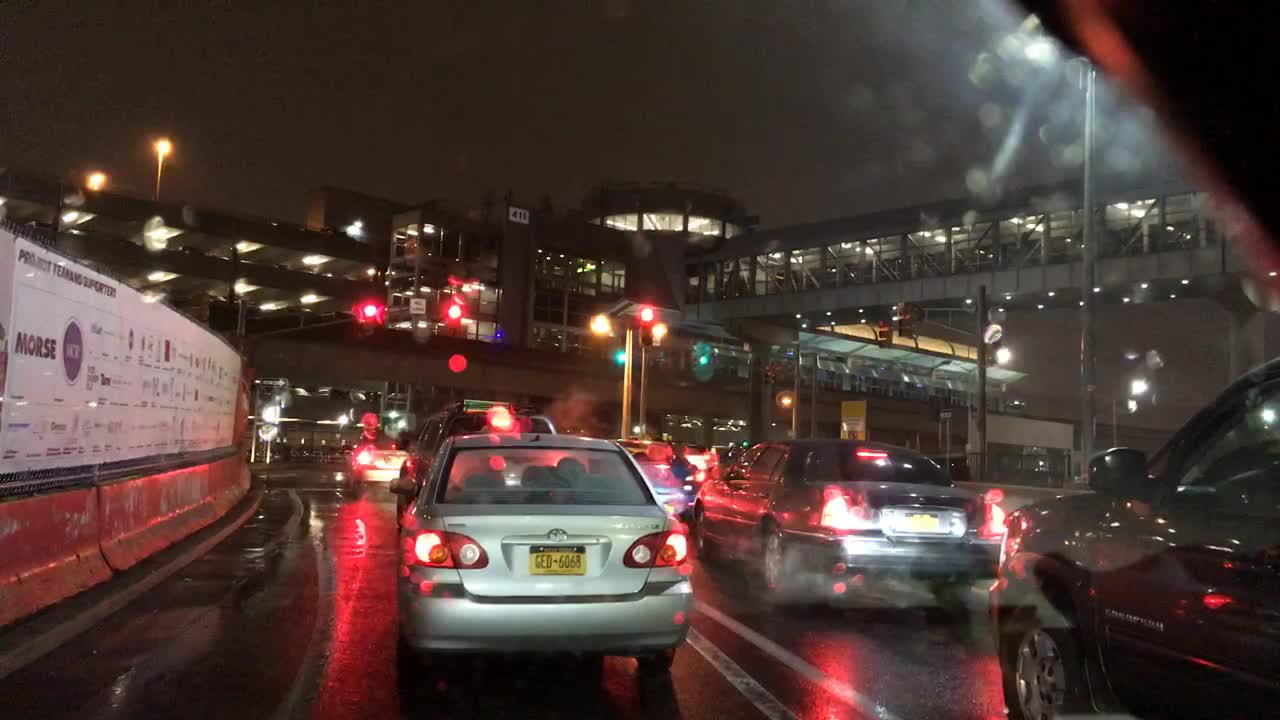car: (989, 350, 1280, 719), (398, 408, 696, 672), (690, 433, 1006, 606), (392, 397, 559, 523), (632, 439, 696, 520), (348, 433, 411, 488), (672, 442, 711, 485), (711, 439, 736, 469)
traffic light: (874, 319, 893, 350), (897, 305, 913, 337), (639, 300, 653, 334), (363, 300, 375, 333), (450, 293, 462, 325), (696, 340, 708, 365), (615, 340, 627, 365), (764, 361, 773, 385)
traffic sign: (840, 399, 868, 439), (406, 297, 426, 316), (936, 411, 951, 423)
